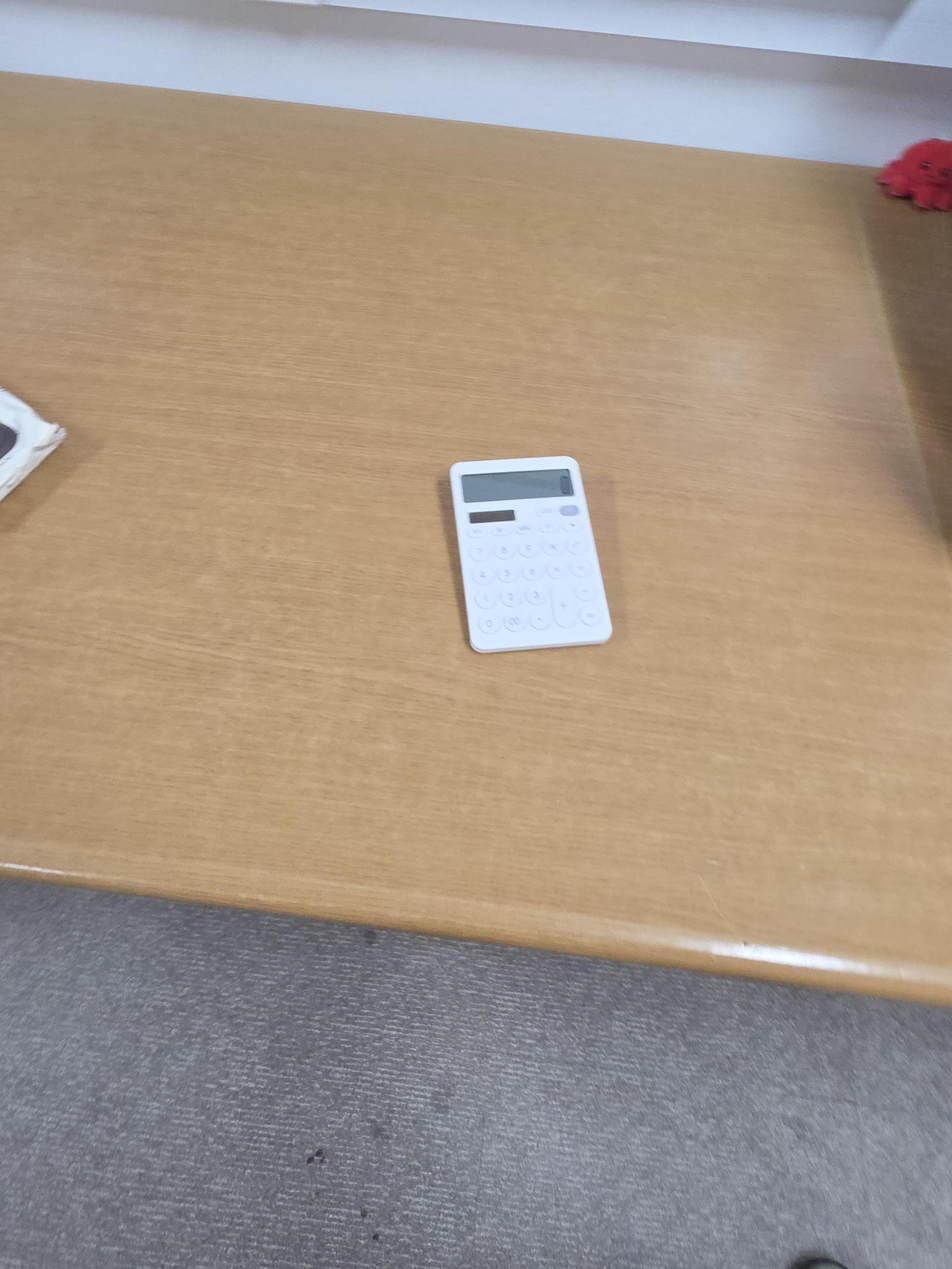calculator: (449, 456, 612, 653)
